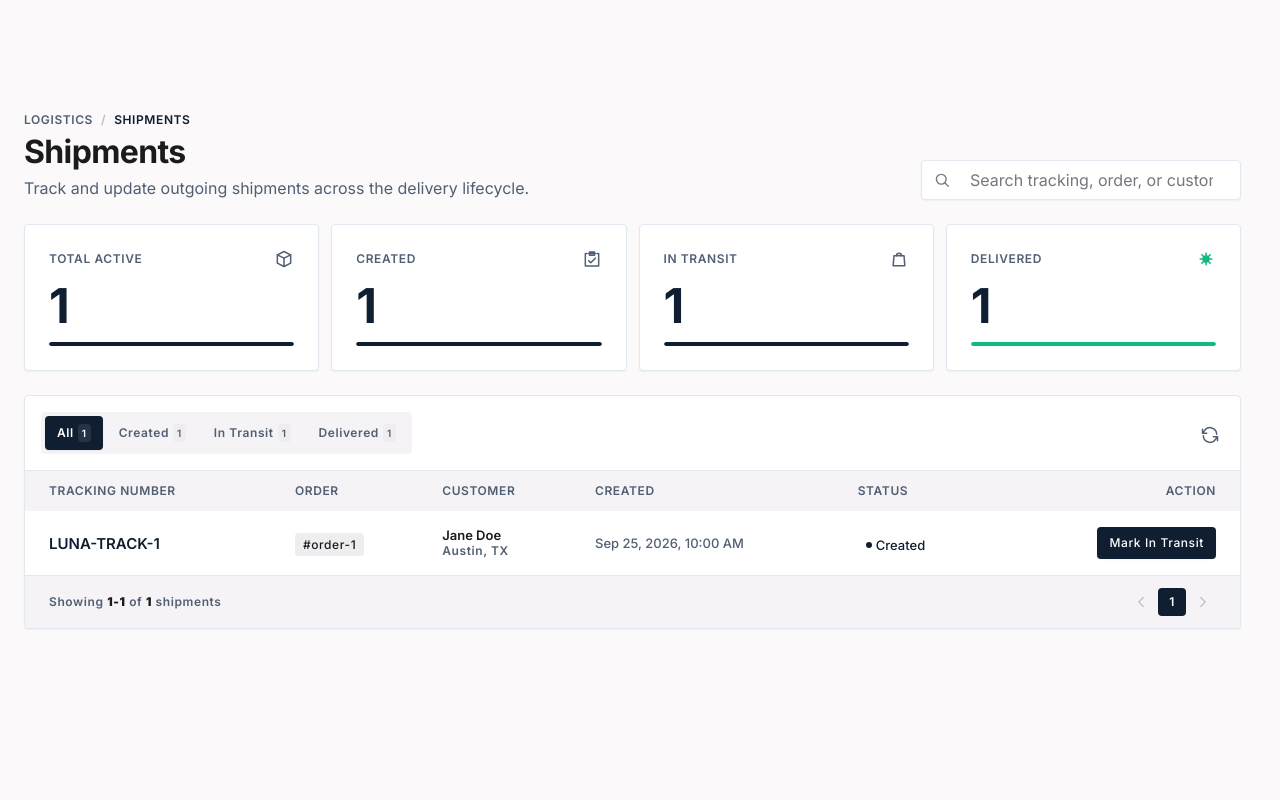
Test case: ShipmentQueue › shows the message returned by a failed shipment command
Click the button "Mark In Transit" at (1157, 543), box top-left (1098, 527), bottom-right (1216, 559)
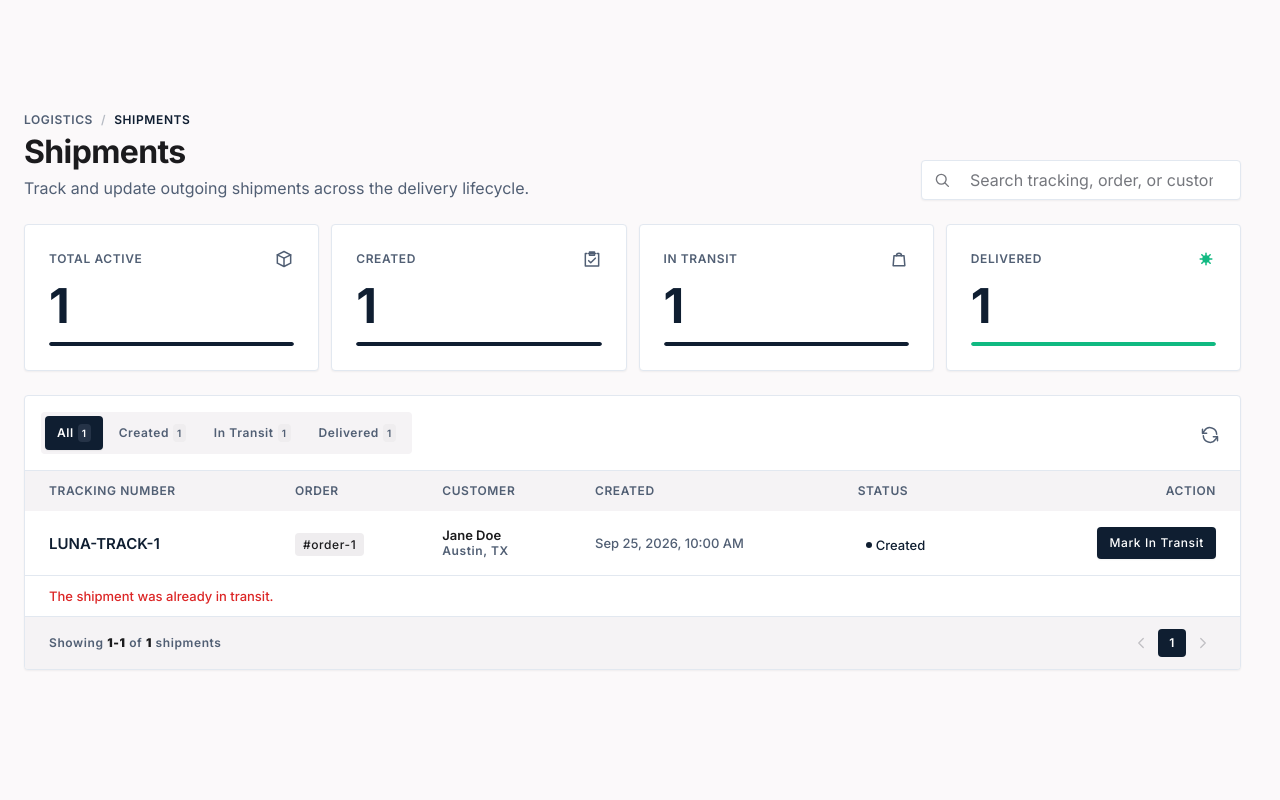
Result: the text "The shipment was already in transit." is shown at top-left (25, 575), bottom-right (1240, 616)
